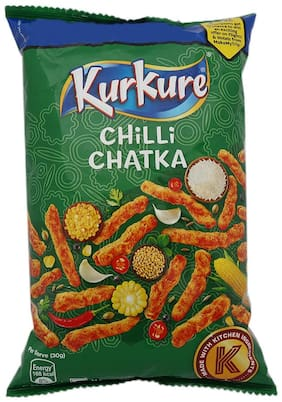kurkure: (49, 57, 218, 124)
plastic: (24, 27, 251, 372)
wrapper: (95, 126, 252, 380)
